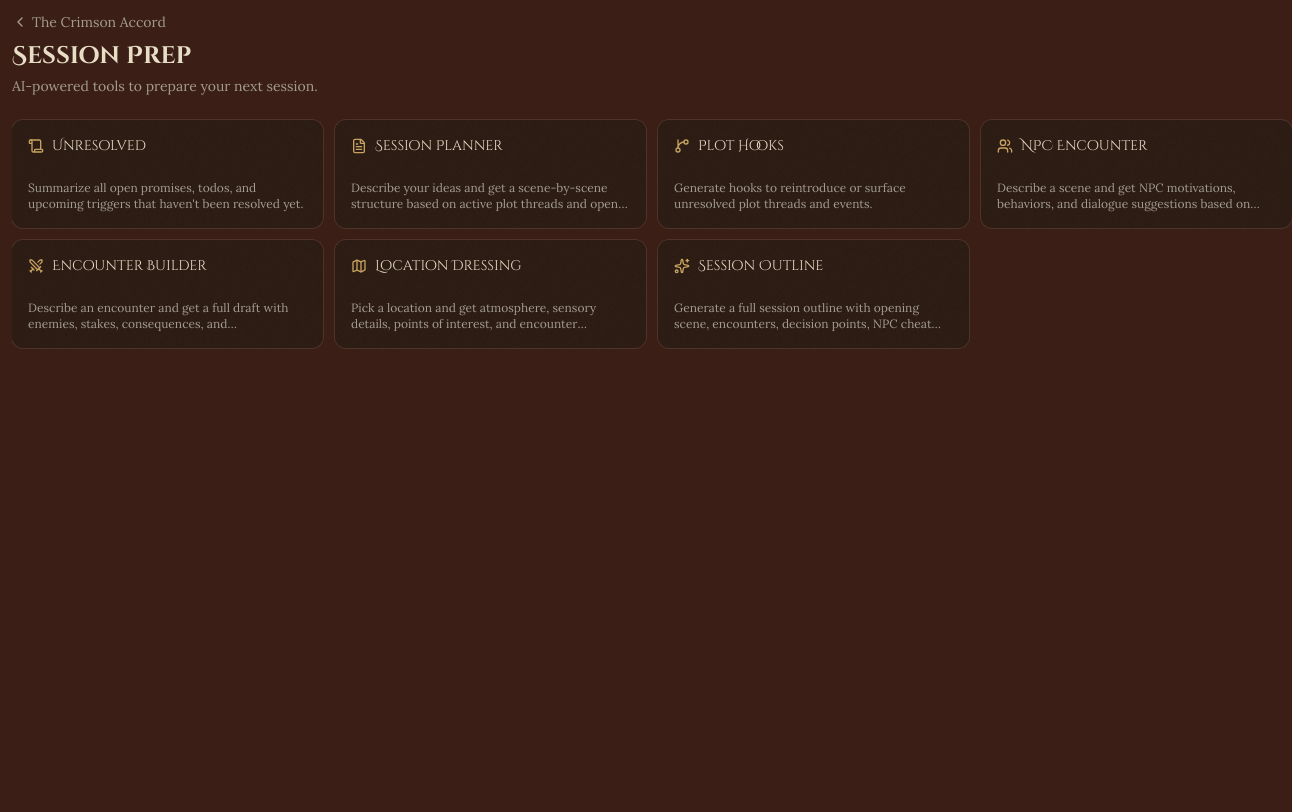
Test case: SessionPrep › shows scene description input for NPC encounter tool
This screenshot has width=1292, height=812.
Click the text "NPC Encounter" at (1136,174), box [981,120,1291,228]
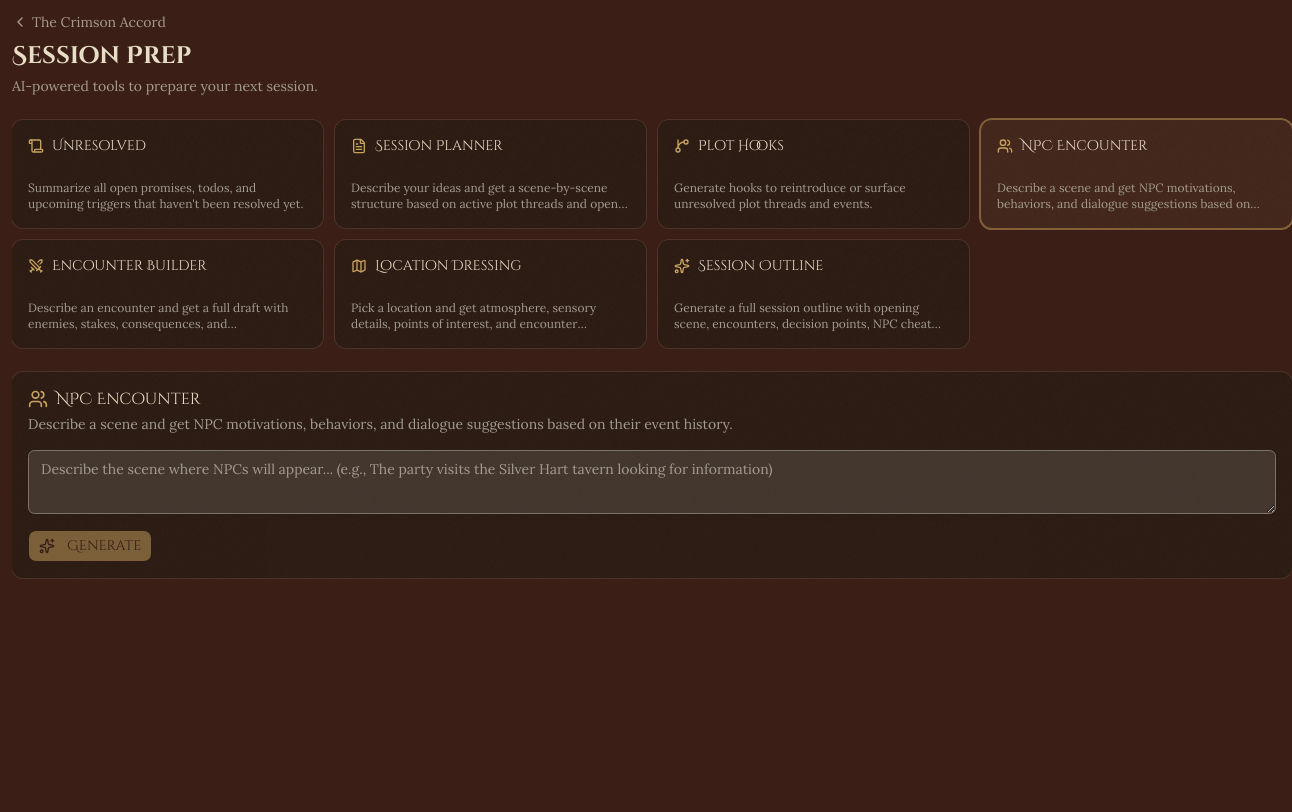
expect the text box with placeholder "Describe the scene" is shown: met, box [28,450,1276,514]
